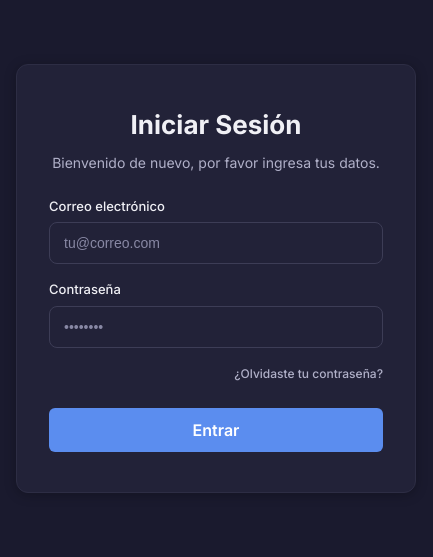
Test: LoginPage › muestra error de conexion para excepciones sin response
Type "demo@test.com" into the field labelled "Correo electrónico" at x=216, y=243, box 49,222 -> 383,264
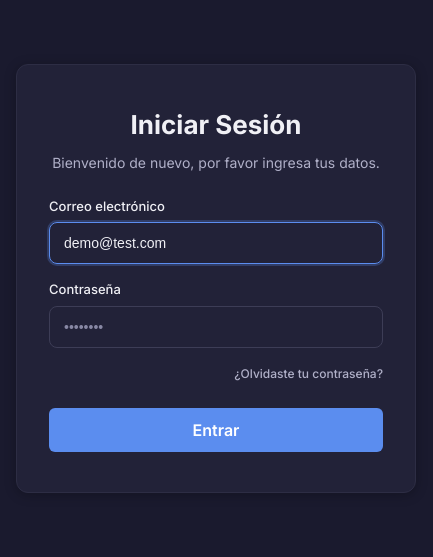
Type "bad" into the password field labelled "Contraseña" at x=216, y=326, box 49,306 -> 383,348
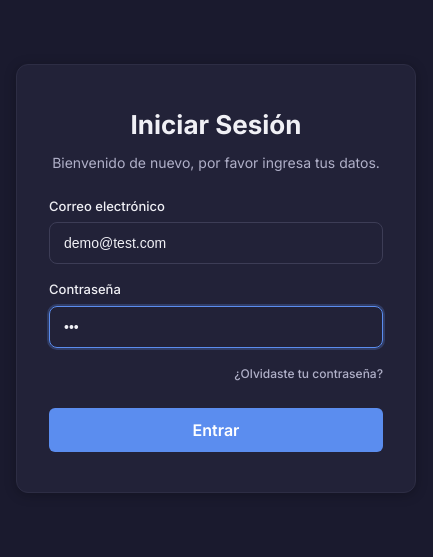
Click the button "Entrar" at x=216, y=430, box 49,408 -> 383,452
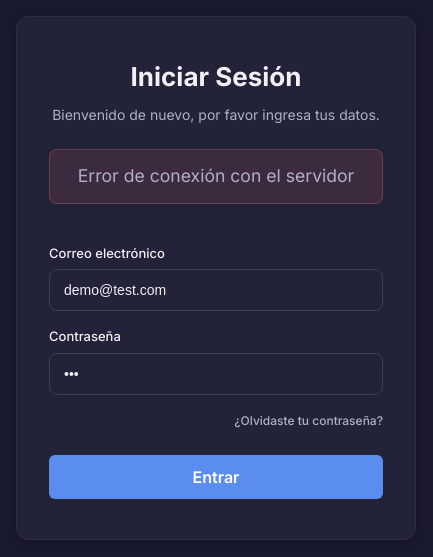
Expected: the text "Error de conexión con el servidor" is shown, 49,149 -> 383,204
